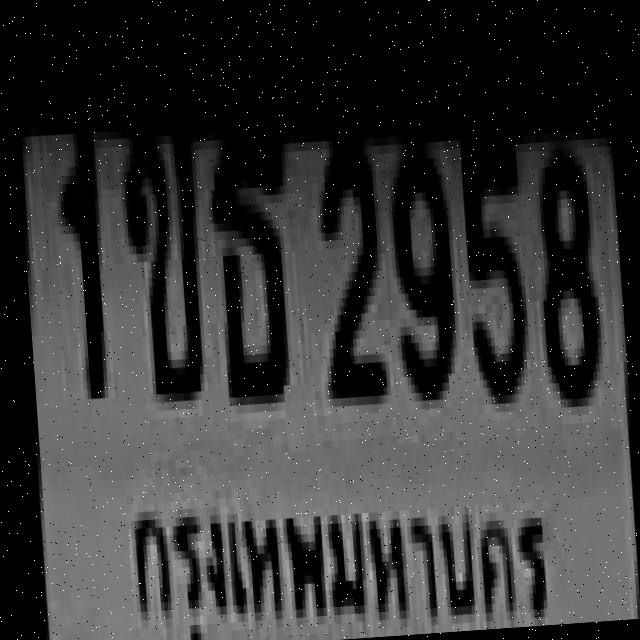1: (52, 132, 111, 392)
11KhorKhai: (117, 126, 208, 396)
2: (310, 126, 387, 394)
33ThorThong: (201, 119, 299, 398)
5: (454, 128, 530, 397)
8: (528, 140, 601, 400)
9: (384, 141, 456, 394)
Bangkok: (115, 442, 556, 640)
